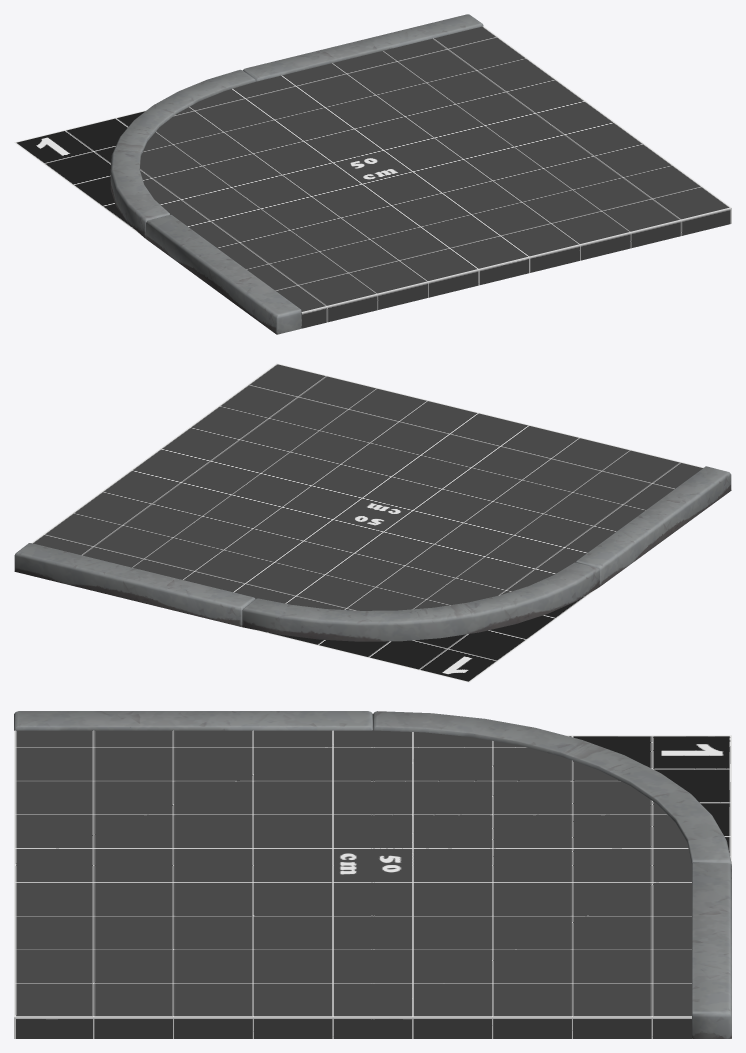
File: M02SideWalk04_3.FBX
The picture shows the model from 3 angles, top to bottom: view 1: azimuth 30°, elevation 25°; view 2: azimuth 150°, elevation 25°; view 3: azimuth 270°, elevation 25°; orthographic projection. The views are drawn at different scales.
Visible parts, largest first — view 1: M02SideWalk04_3; view 2: M02SideWalk04_3; view 3: M02SideWalk04_3.
Boxes of the visible parts, x1,y1,x2,y2 form: M02SideWalk04_3: [14, 14, 731, 334]; M02SideWalk04_3: [14, 363, 731, 682]; M02SideWalk04_3: [14, 711, 731, 1038].
Size of what is drawn, in the model's own units: 4.5 by 0.1783 by 4.5.
